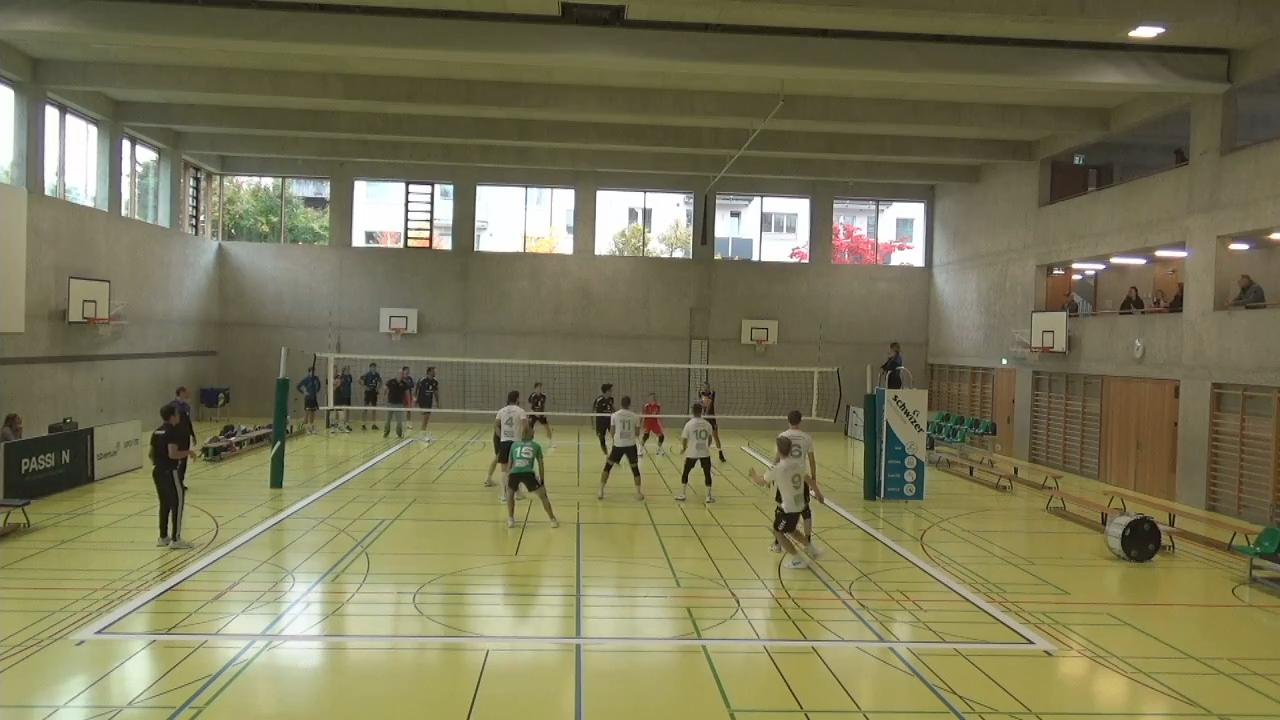ricezione: (695, 384, 728, 463)
